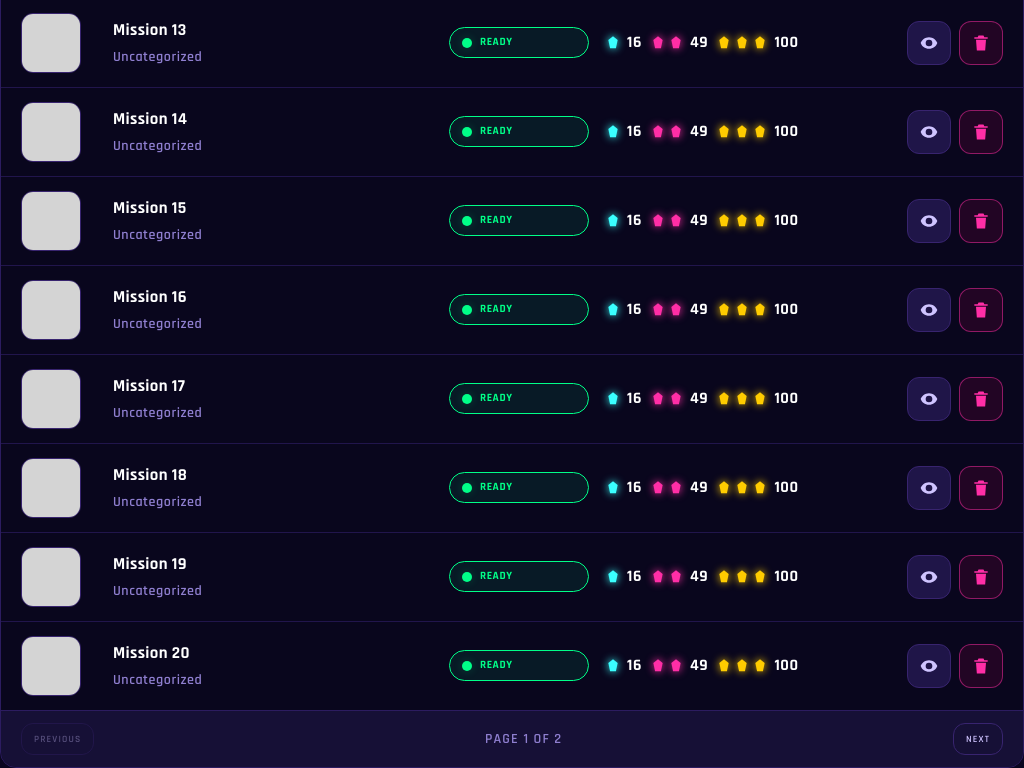
AdminPuzzlesPanel › paginates 21 rows using a fixed page size of 20
(page scrolled)
Expected: the text "Mission 20" is shown, [113,642,190,664]
Expected: the button with aria-label "Previous page" is disabled, [21,723,94,755]
Click the button with aria-label "Next page" at coordinates (978, 739), box [953,723,1003,755]
(page scrolled)
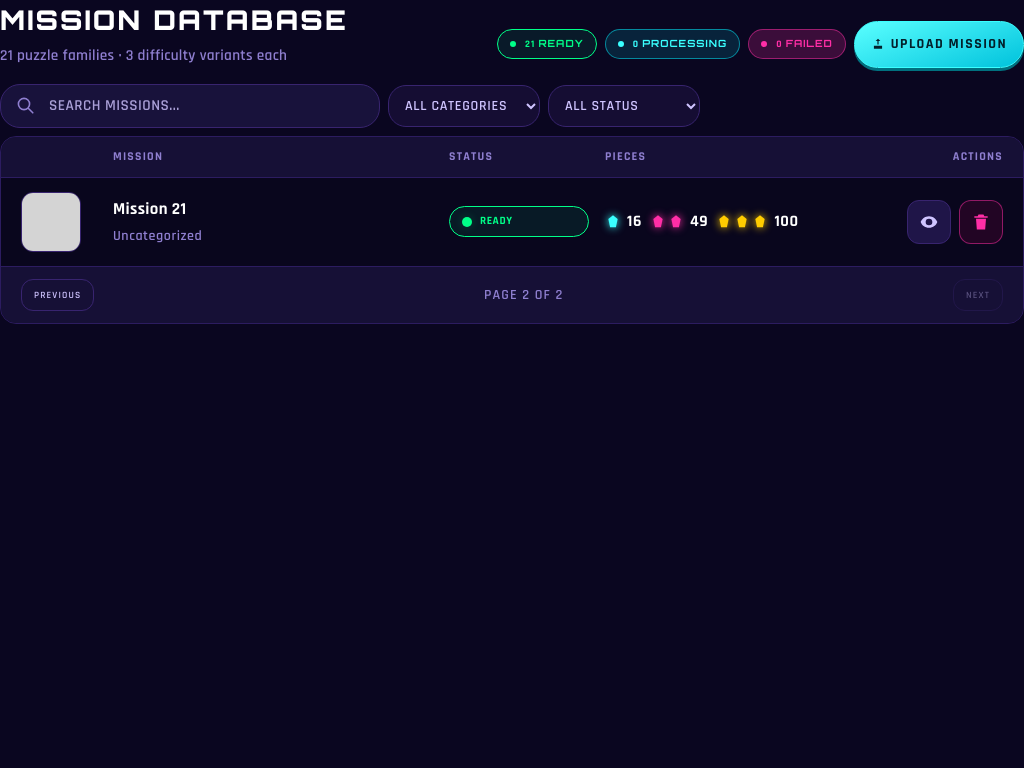
Expected: the text "Mission 21" is shown, [113,198,186,220]
Expected: the button with aria-label "Previous page" is enabled, [21,279,94,311]
Expected: the button with aria-label "Next page" is disabled, [953,279,1003,311]
